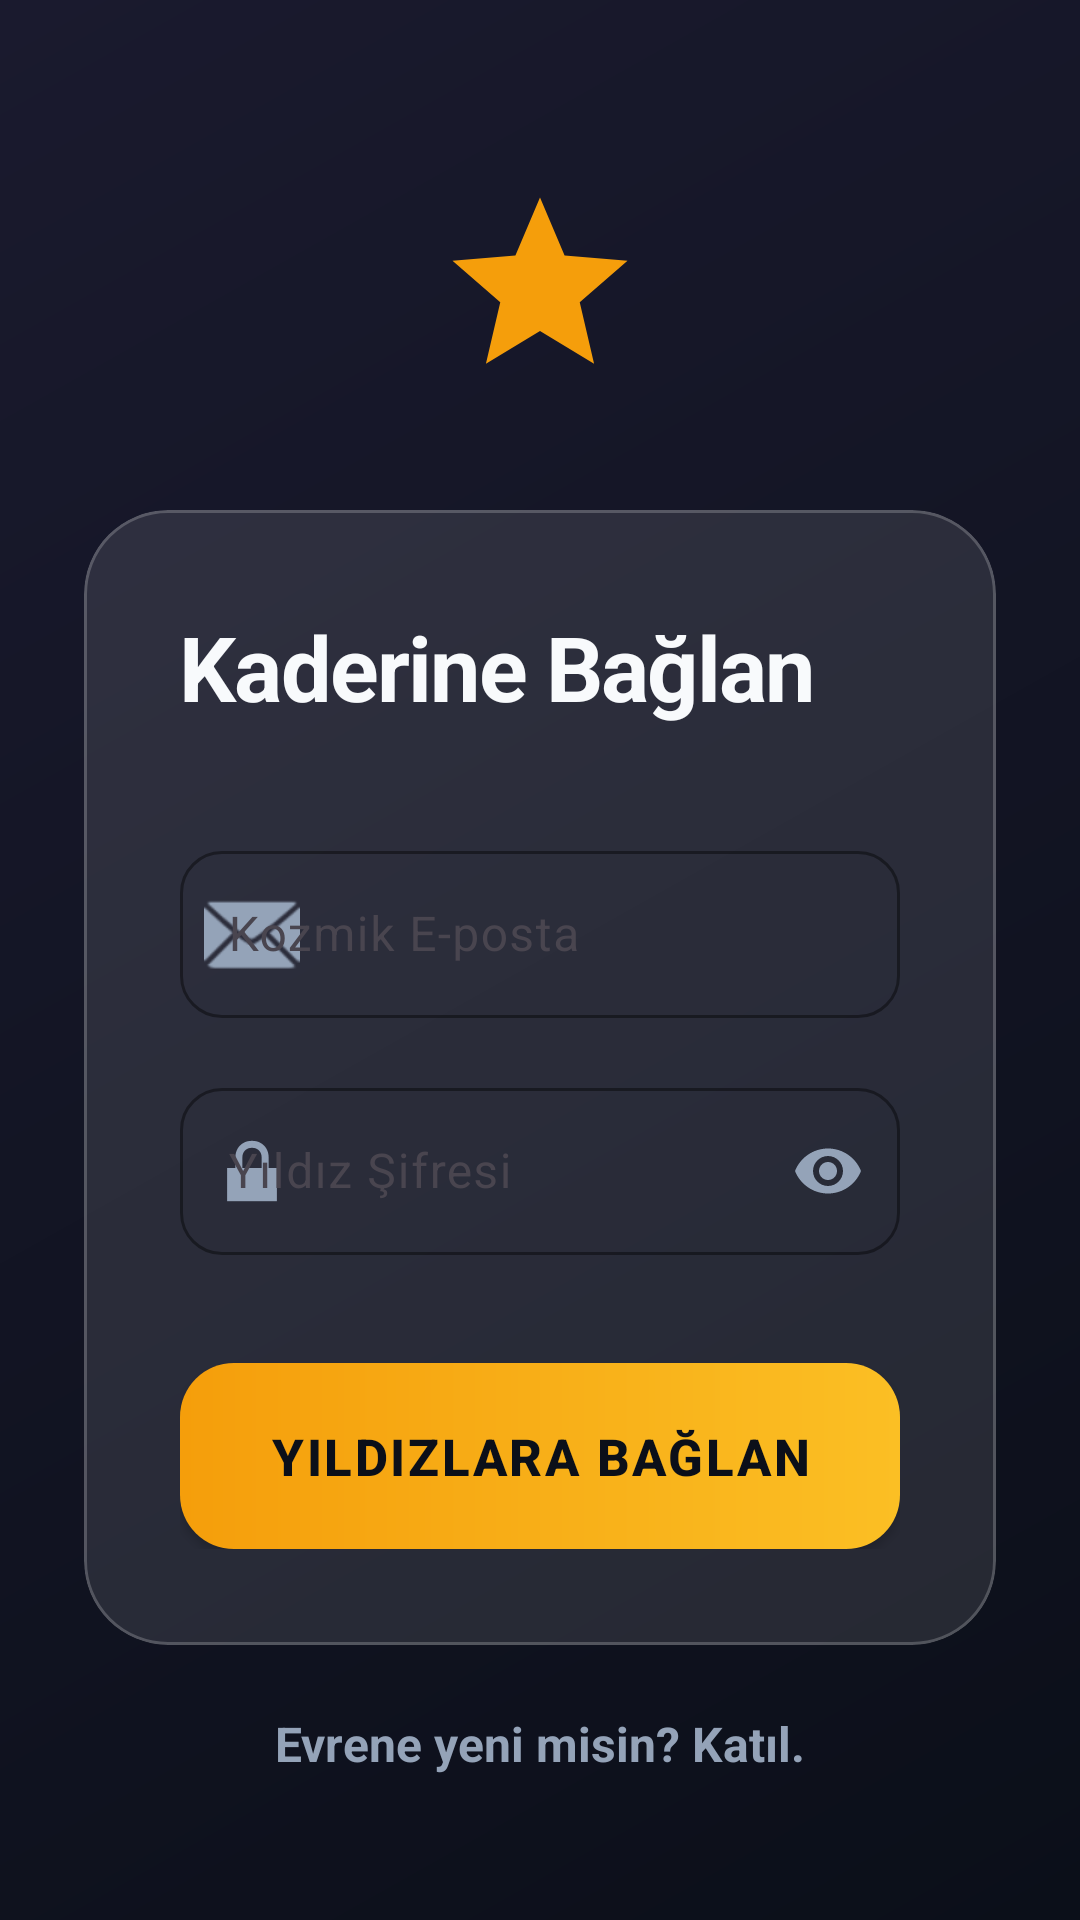

Icon click points for this 1080*1920 phone screenshot, format (x,y):
star premium: (540,281)
